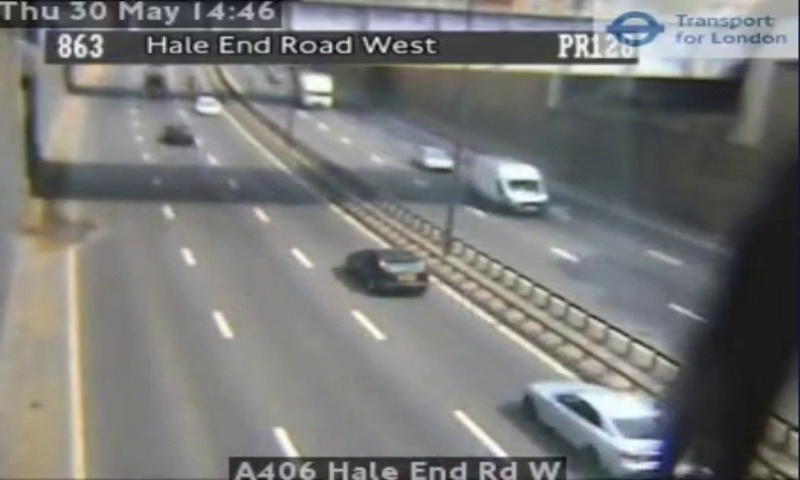car: (525, 380, 667, 473), (346, 248, 429, 293)
